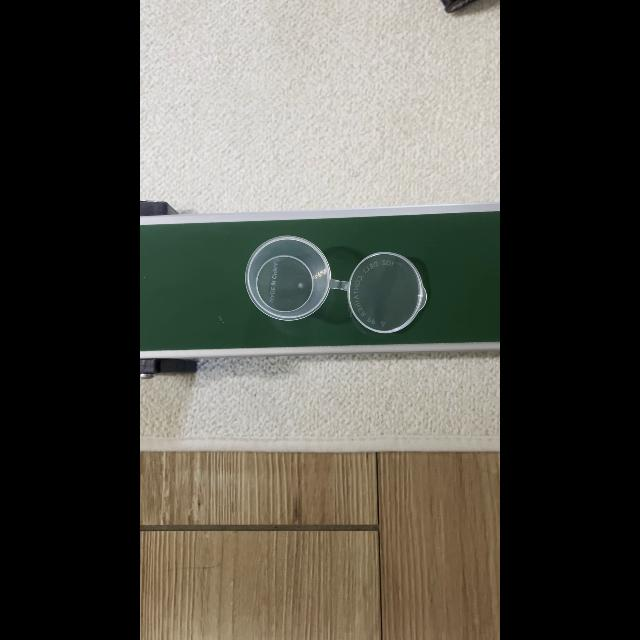clean: (248, 235, 430, 332)
